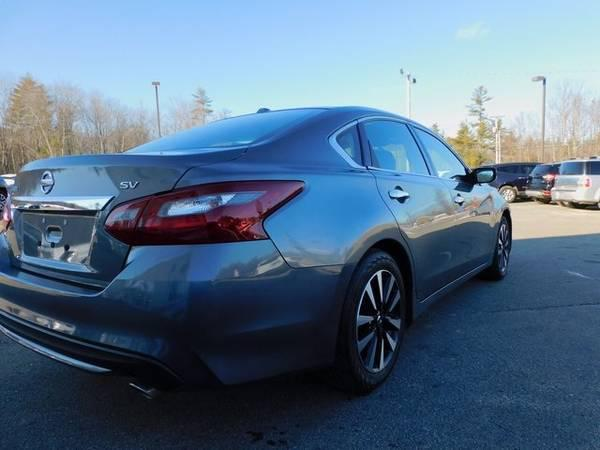Front_Right_Door: (440, 178, 500, 277)
Front_Right_Window: (409, 125, 482, 180)
Rear_Bumper: (0, 235, 358, 385)
Rear_Fender: (171, 124, 397, 267)
Rear_Right_Door: (369, 171, 472, 323)
Rear_Right_Window: (353, 117, 435, 180)
Rear_Windshield: (119, 110, 322, 155)
Right_Taillight: (107, 181, 311, 245)
Roof: (226, 105, 429, 158)
Tailgate: (8, 151, 195, 280)
Wheel: (341, 247, 414, 388), (496, 217, 515, 275)
